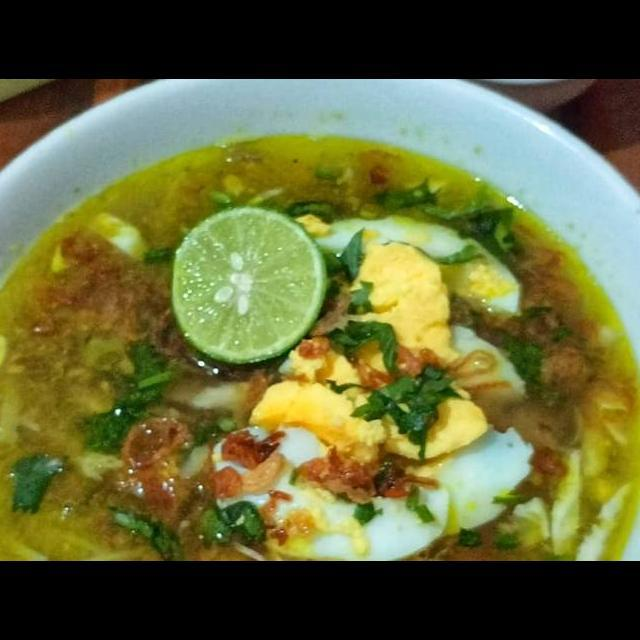Soto: (0, 105, 621, 587)
